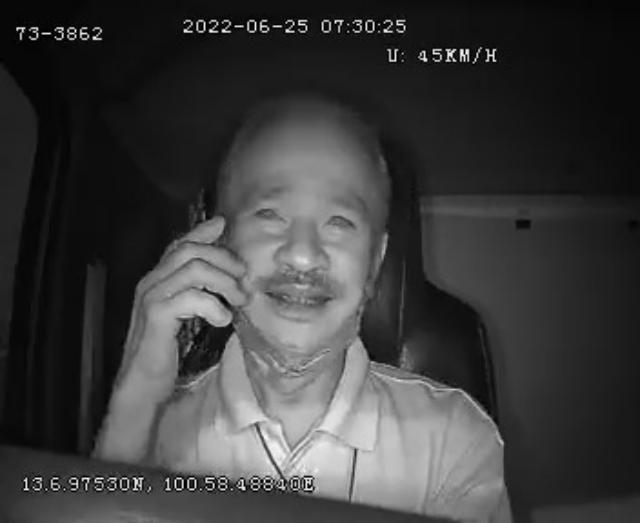PhoneUse: (172, 185, 226, 374)
SafeDriving: (316, 196, 365, 244), (244, 190, 295, 231)
